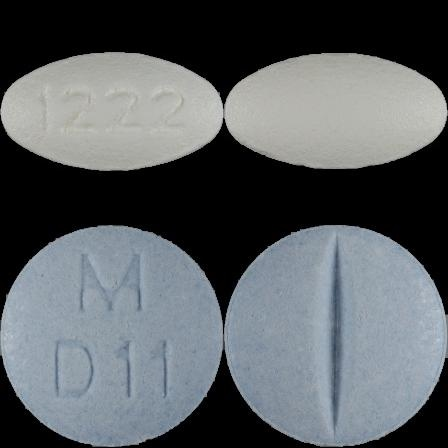16590-270: (0, 0, 224, 224)
